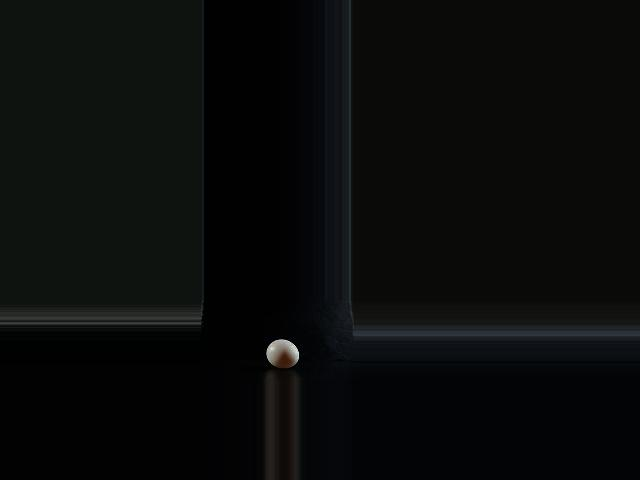egg: (266, 338, 299, 368)
